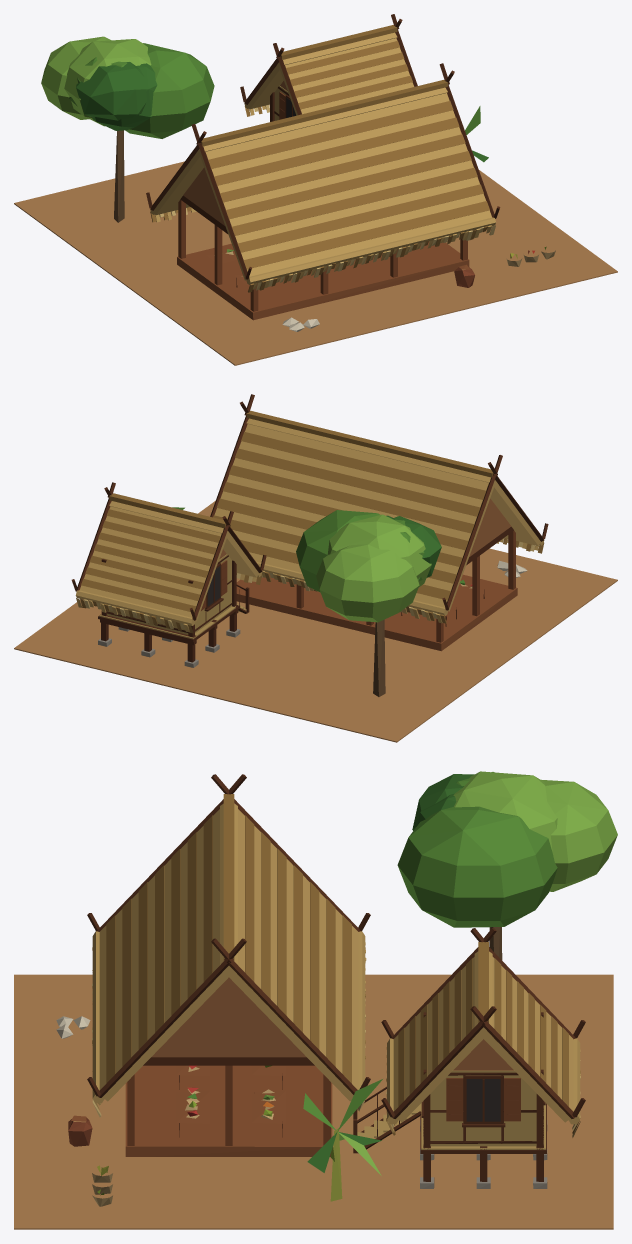
Rendered from shop_3.glb.
3 views of the same model, one above another, from view 1: azimuth 30°, elevation 25°; view 2: azimuth 150°, elevation 25°; view 3: azimuth 270°, elevation 25° (orthographic). The views are drawn at different scales.
Visible parts, largest first — view 1: body; view 2: body; view 3: body, windows.
Part boxes in pixels (x1=…): body: x1=14, y1=14, x2=617, y2=365; body: x1=14, y1=394, x2=617, y2=742; body: x1=14, y1=771, x2=617, y2=1229; windows: x1=466, y1=1079, x2=500, y2=1121.
Size of the model in its own units: 15.9 by 7.01 by 16.01.
